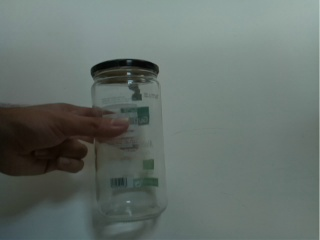pote cristal: (89, 57, 172, 225)
